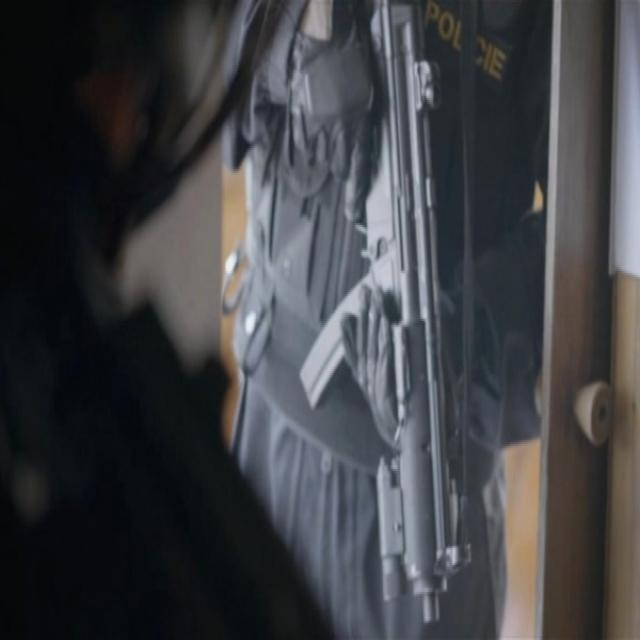rifle: (298, 1, 474, 632)
